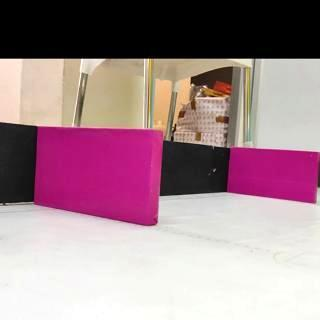xparking: (42, 128, 158, 216), (232, 152, 318, 196)
